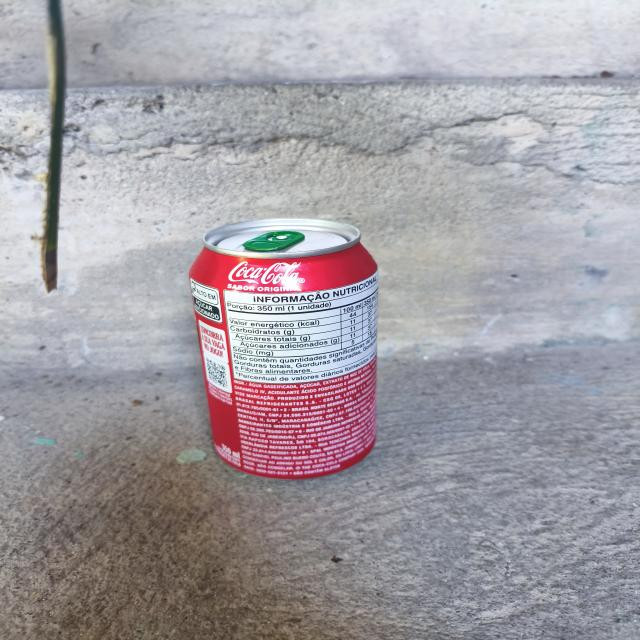Coca Cola: (188, 200, 394, 488)
